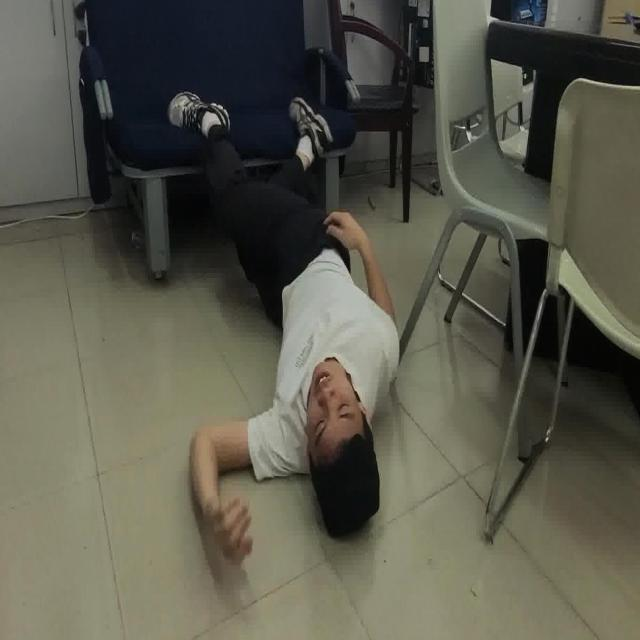fall: (165, 84, 402, 565)
